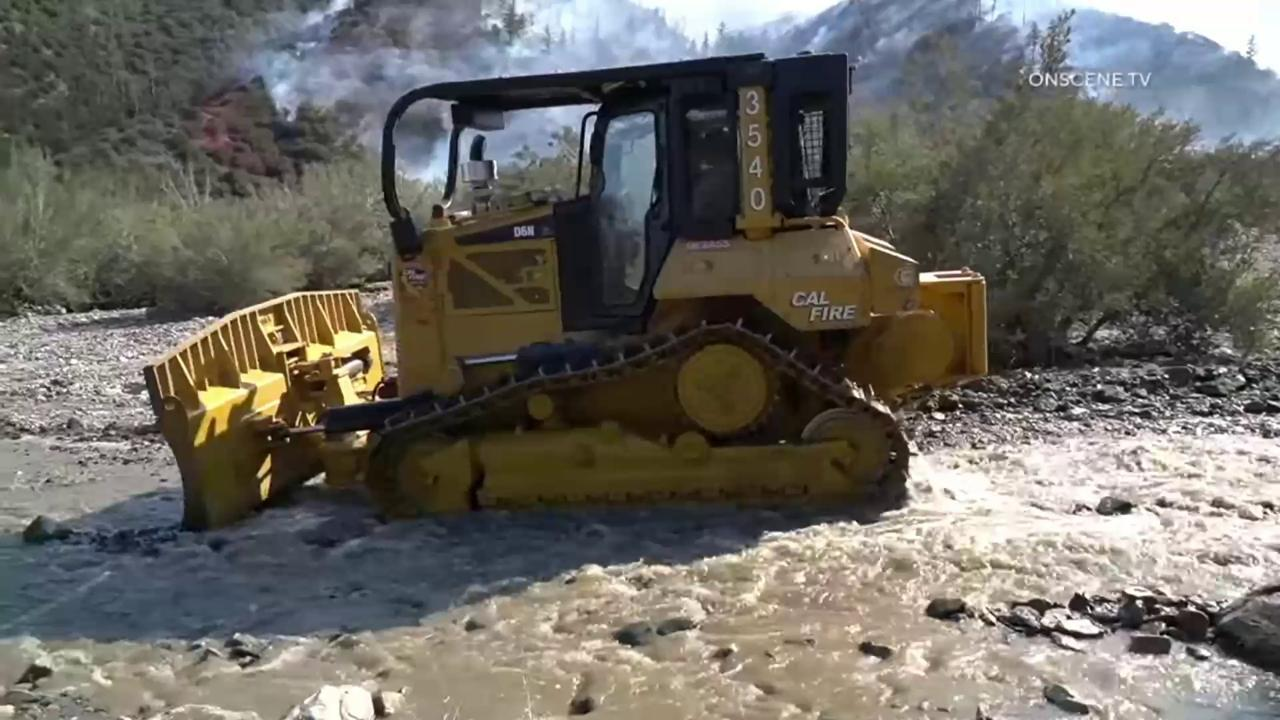smoke: (242, 0, 1280, 185)
